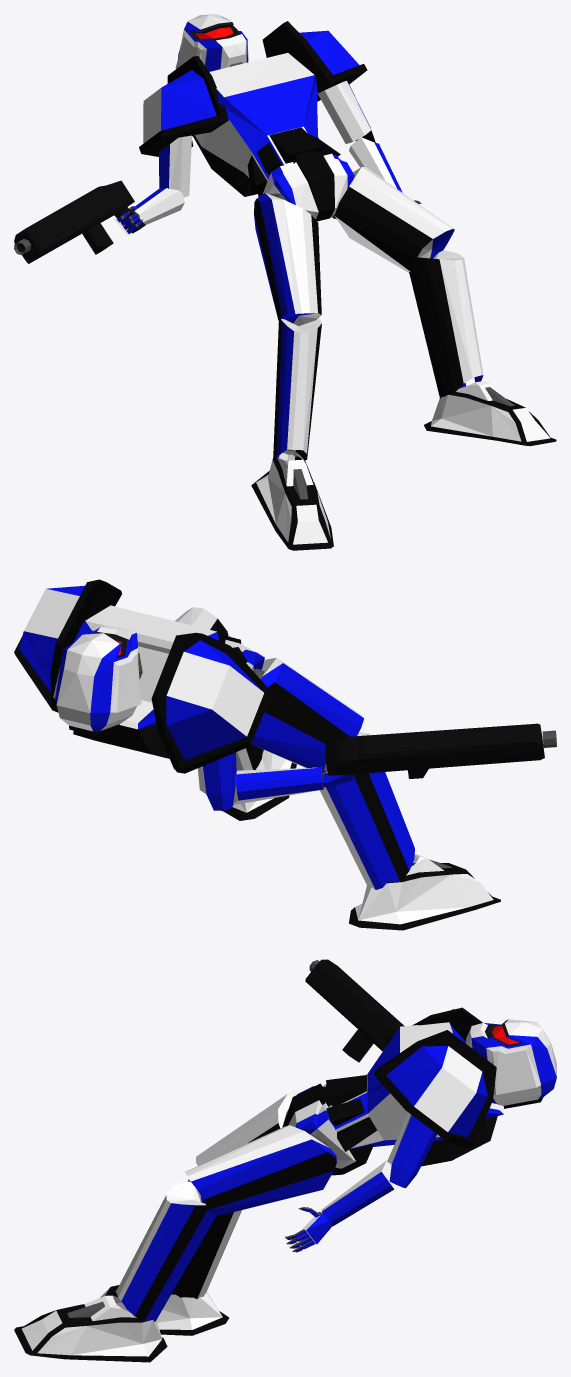
File: robots_000021.obj
The picture shows the model from 3 angles, top to bottom: view 1: azimuth 30°, elevation 25°; view 2: azimuth 150°, elevation 25°; view 3: azimuth 270°, elevation 25°; orthographic projection. The views are drawn at different scales.
Visible parts, largest first — view 1: Chest_plate_Cube.004, R_Shin.002_Cube.029, R_Thigh.002_Cube.027, R_Thigh_Cube.005, R_Shin_Cube.007, Cube.002_Cube.059, R_Foot_Cube, R_Foot.002_Cube.035, Cube_Cube.001, Pelvis_Cube.006, Cube_Cube.021, Head_base_Cube.022 (+4 smaller); view 2: Cube.002_Cube.059, Cube_Cube.001, Head_base_Cube.022, R_Thigh_Cube.005, R_Shin_Cube.007, R_Foot_Cube, Chest_plate_Cube.004, Cube_Cube.021, R_Forearm_Cube.008, R_Arm_Cube.002, R_Foot.002_Cube.035, R_Thigh.002_Cube.027 (+2 smaller); view 3: Cube_Cube.021, R_Thigh.002_Cube.027, Chest_plate_Cube.004, R_Foot.002_Cube.035, R_Shin.002_Cube.029, Head_base_Cube.022, Cube_Cube.001, Pelvis_Cube.006, R_Shin_Cube.007, R_Foot_Cube, L_Arm_Cube.014, R_Thigh_Cube.005 (+3 smaller).
Part boxes in pixels (<box>): Chest_plate_Cube.004: <box>193,53,340,196</box>; R_Shin.002_Cube.029: <box>409,250,483,398</box>; R_Thigh.002_Cube.027: <box>334,167,454,272</box>; R_Thigh_Cube.005: <box>254,193,321,325</box>; R_Shin_Cube.007: <box>273,319,321,460</box>; Cube.002_Cube.059: <box>139,56,228,156</box>; R_Foot_Cube: <box>251,449,333,550</box>; R_Foot.002_Cube.035: <box>424,381,556,446</box>; Cube_Cube.001: <box>14,180,145,263</box>; Pelvis_Cube.006: <box>258,151,354,221</box>; Cube_Cube.021: <box>262,21,367,101</box>; Head_base_Cube.022: <box>175,14,248,71</box>; Cube.002_Cube.059: <box>151,632,272,773</box>; Cube_Cube.001: <box>325,723,556,778</box>; Head_base_Cube.022: <box>53,625,141,735</box>; R_Thigh_Cube.005: <box>251,657,363,772</box>; R_Shin_Cube.007: <box>320,732,414,889</box>; R_Foot_Cube: <box>349,853,500,930</box>; Chest_plate_Cube.004: <box>55,605,247,758</box>; Cube_Cube.021: <box>14,579,121,712</box>; R_Forearm_Cube.008: <box>233,767,323,804</box>; R_Arm_Cube.002: <box>198,752,236,810</box>; R_Foot.002_Cube.035: <box>223,749,296,820</box>; R_Thigh.002_Cube.027: <box>175,607,227,636</box>; Cube_Cube.021: <box>374,1030,496,1147</box>; R_Thigh.002_Cube.027: <box>185,1125,336,1216</box>; Chest_plate_Cube.004: <box>326,1022,503,1166</box>; R_Foot.002_Cube.035: <box>14,1295,167,1362</box>; R_Shin.002_Cube.029: <box>116,1182,216,1321</box>; Head_base_Cube.022: <box>466,1019,556,1108</box>; Cube_Cube.001: <box>305,959,404,1062</box>; Pelvis_Cube.006: <box>282,1083,374,1175</box>; R_Shin_Cube.007: <box>172,1179,241,1298</box>; R_Foot_Cube: <box>100,1285,229,1335</box>; L_Arm_Cube.014: <box>387,1113,437,1188</box>; R_Thigh_Cube.005: <box>196,1089,302,1165</box>.
Bounding box in the file's own units: 2.58 × 2.18 × 2.92.
